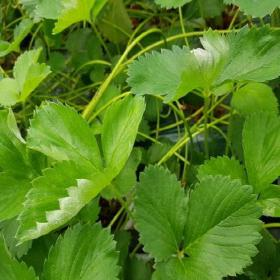Powdery Mildew Leaf: (14, 160, 110, 247), (125, 26, 230, 104)
